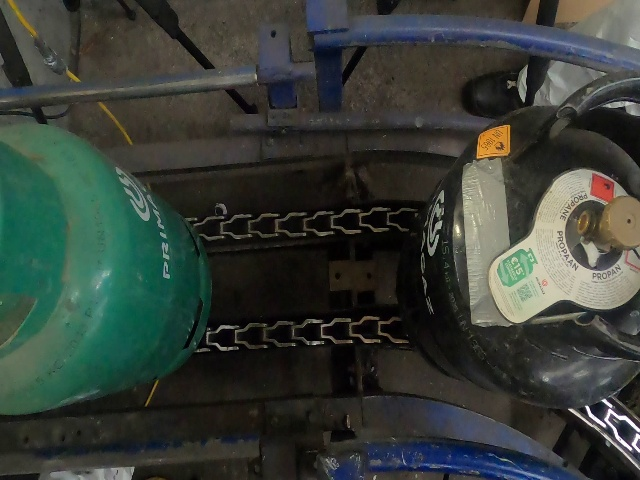gas_bottle: (42, 36, 633, 480)
